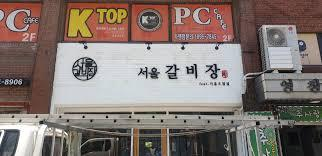galbi: (164, 60, 201, 82)
